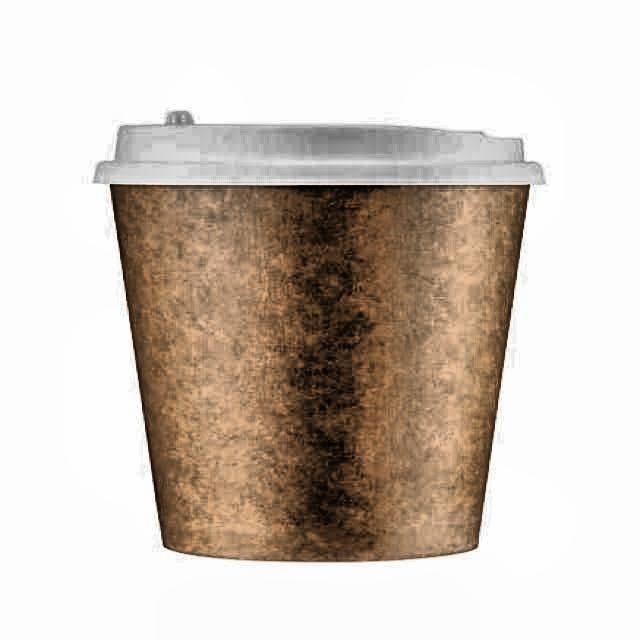cardboard: (92, 110, 547, 566)
